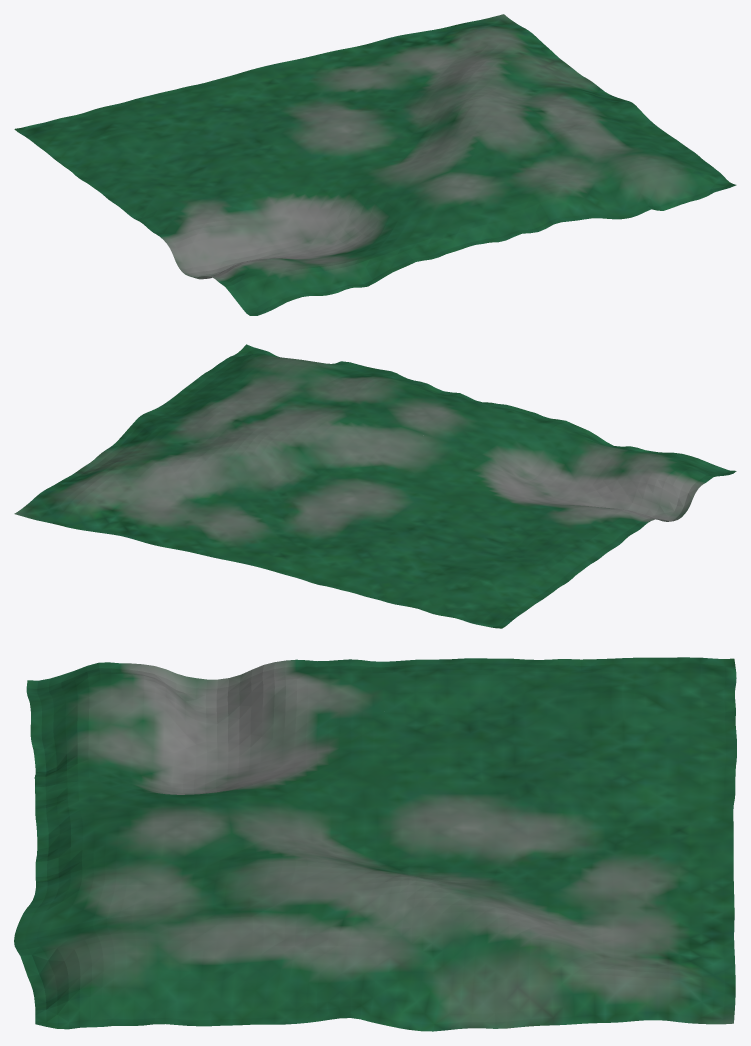
File: voraz.glb
3 views of the same model, one above another, from view 1: azimuth 30°, elevation 25°; view 2: azimuth 150°, elevation 25°; view 3: azimuth 270°, elevation 25° (orthographic). The views are drawn at different scales.
Visible parts, largest first — view 1: name; view 2: name; view 3: name.
Part boxes in pixels (box(x1,y1,x2,y2)): name: box(14, 14, 736, 315); name: box(14, 344, 736, 628); name: box(14, 657, 736, 1031).
Bounding box in the file's own units: 3729 × 586 × 3141.
